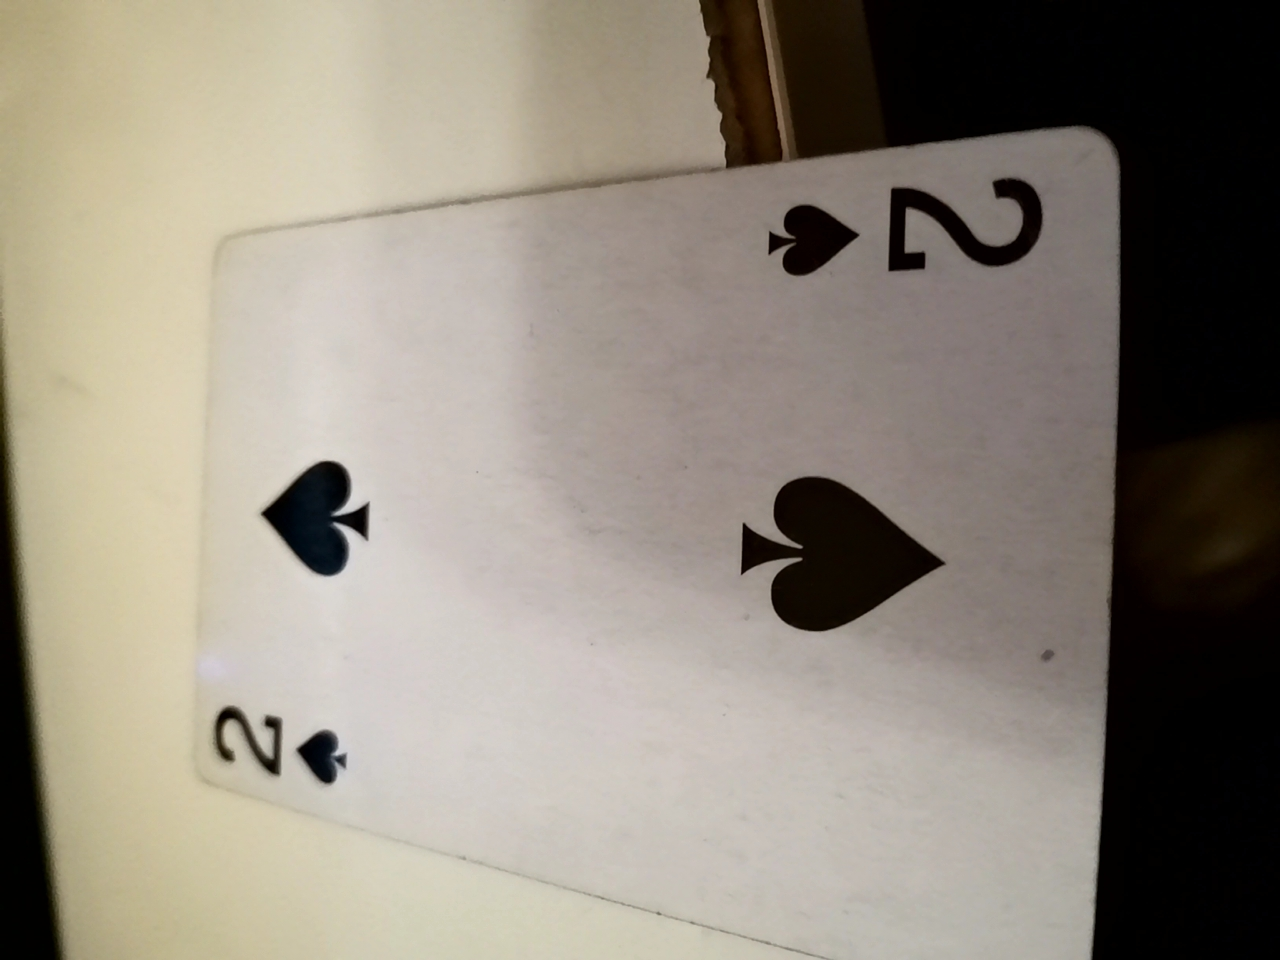ht 2: (199, 127, 1128, 947)
